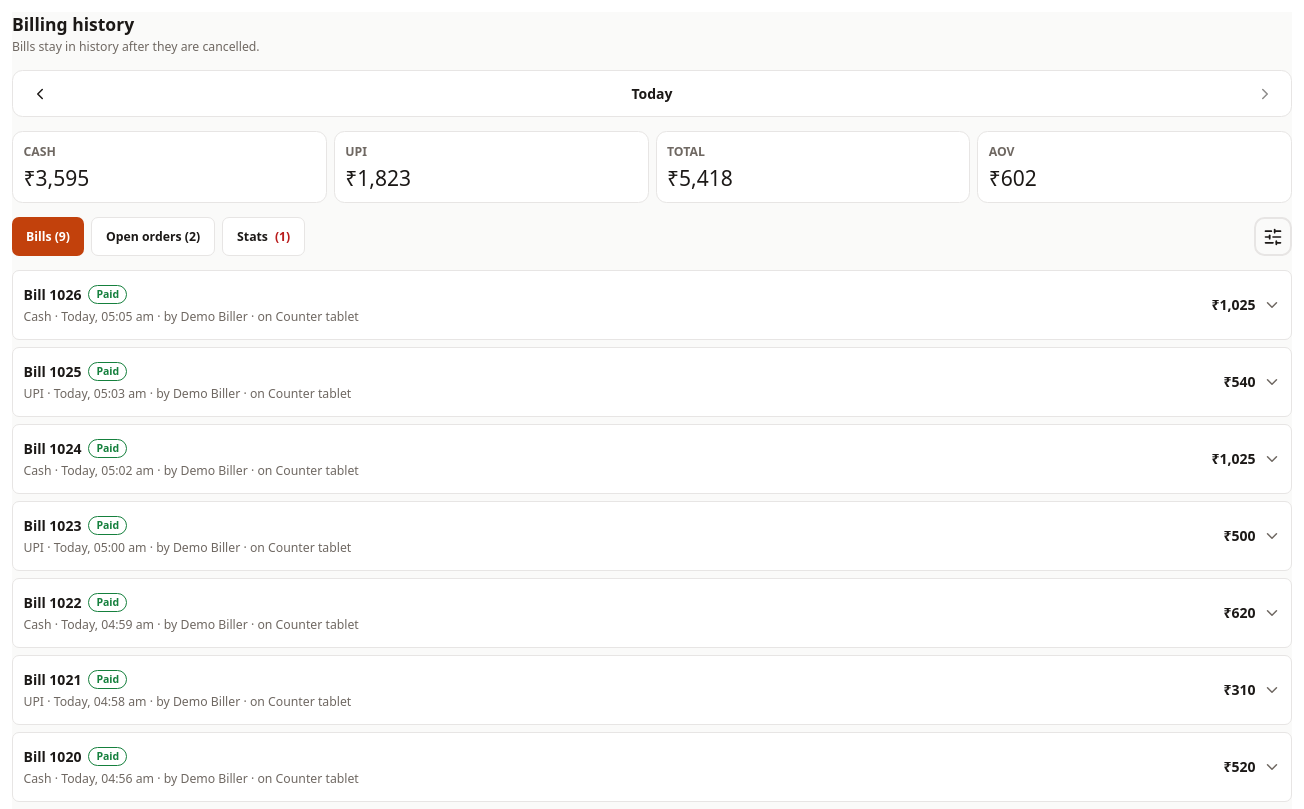
it: the Stats tab carries its own problem count › counts exactly what the panel behind it lists
This screenshot has width=1304, height=809.
Click the tab "Stats (1)" at (264, 237), box [222,217,305,256]
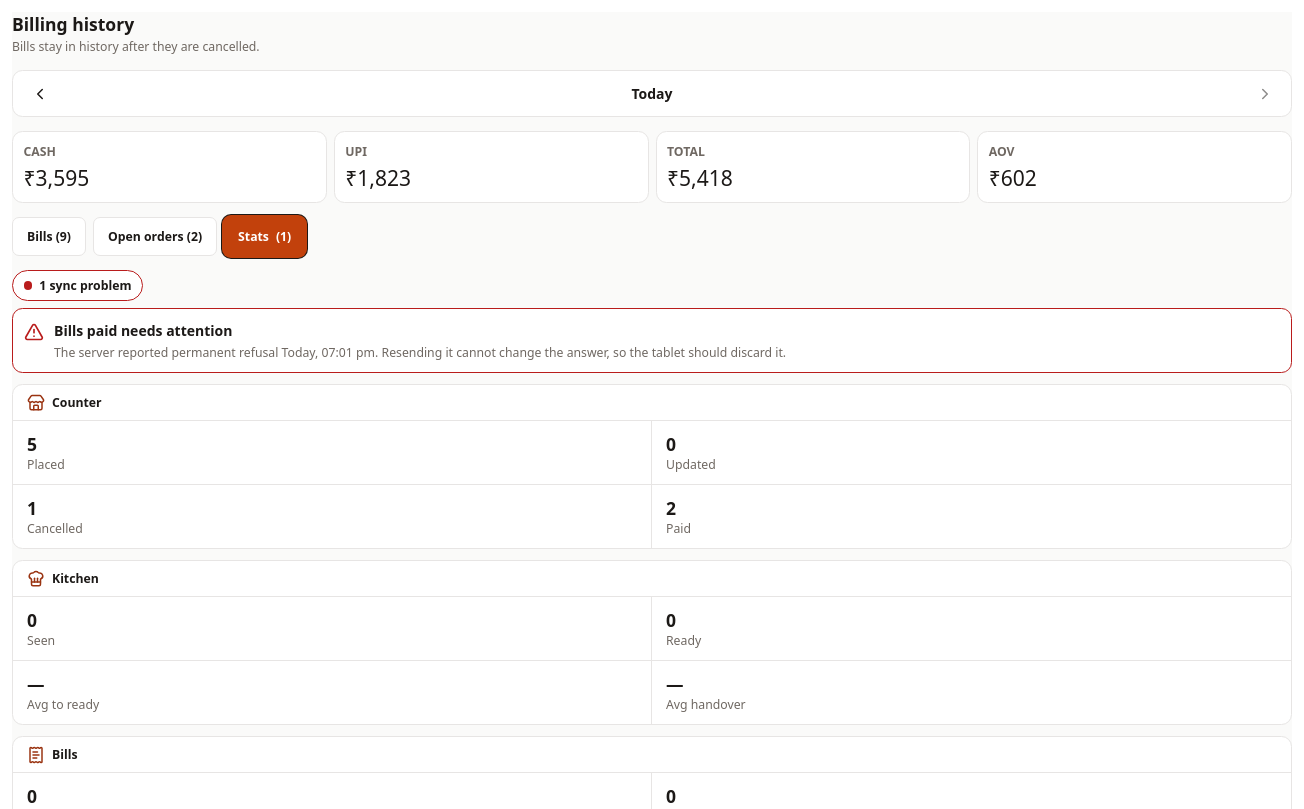
Now the element with test id "sync-chip" reads "1 sync problem", box [39,277,132,294]
